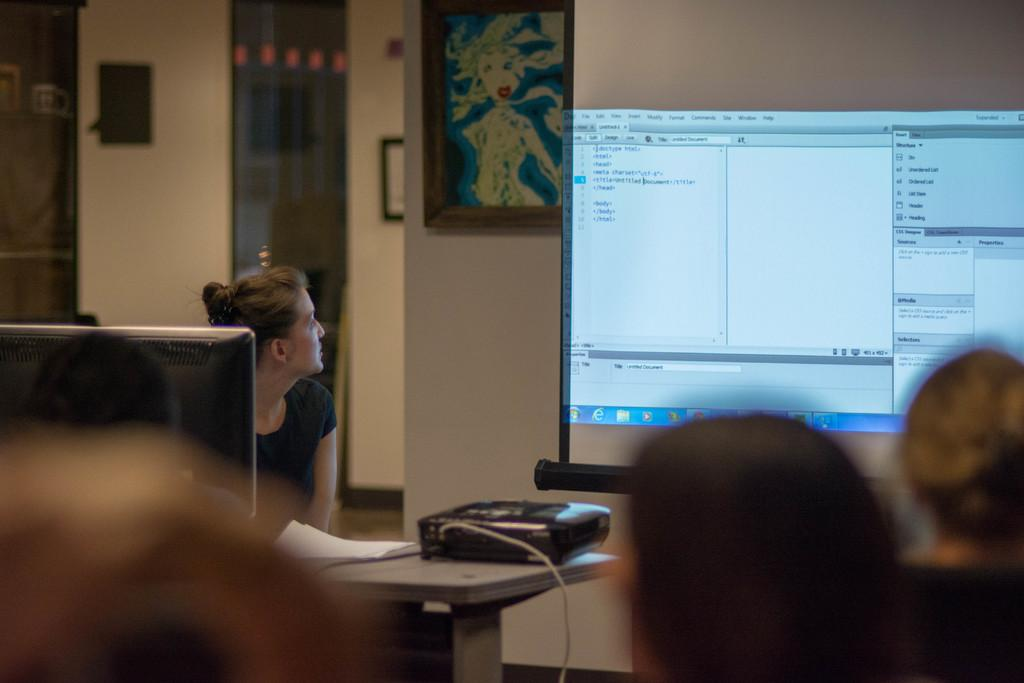Computer-monitor: (0, 313, 266, 523)
